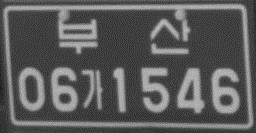0: (17, 65, 46, 113)
1: (109, 65, 130, 115)
4: (173, 65, 206, 116)
5: (140, 65, 171, 113)
6: (209, 66, 240, 116), (50, 65, 79, 114)
가: (79, 67, 105, 111)
부산_D: (55, 15, 192, 57)
